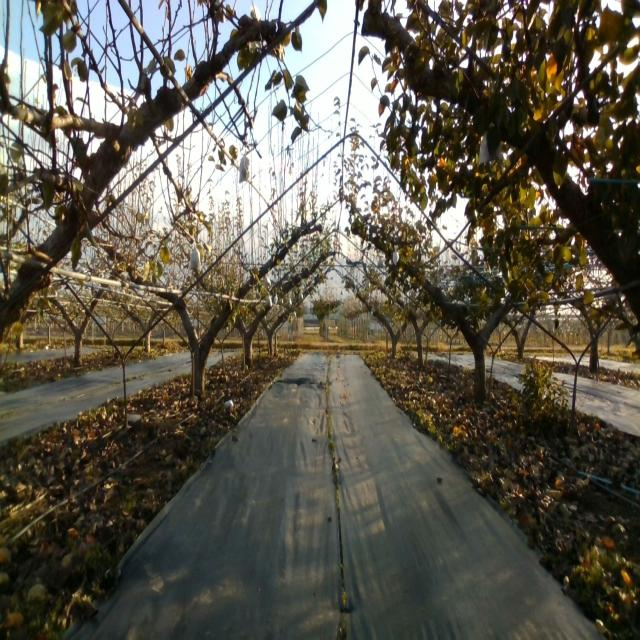pearbags: (186, 240, 202, 272), (238, 150, 250, 184)
